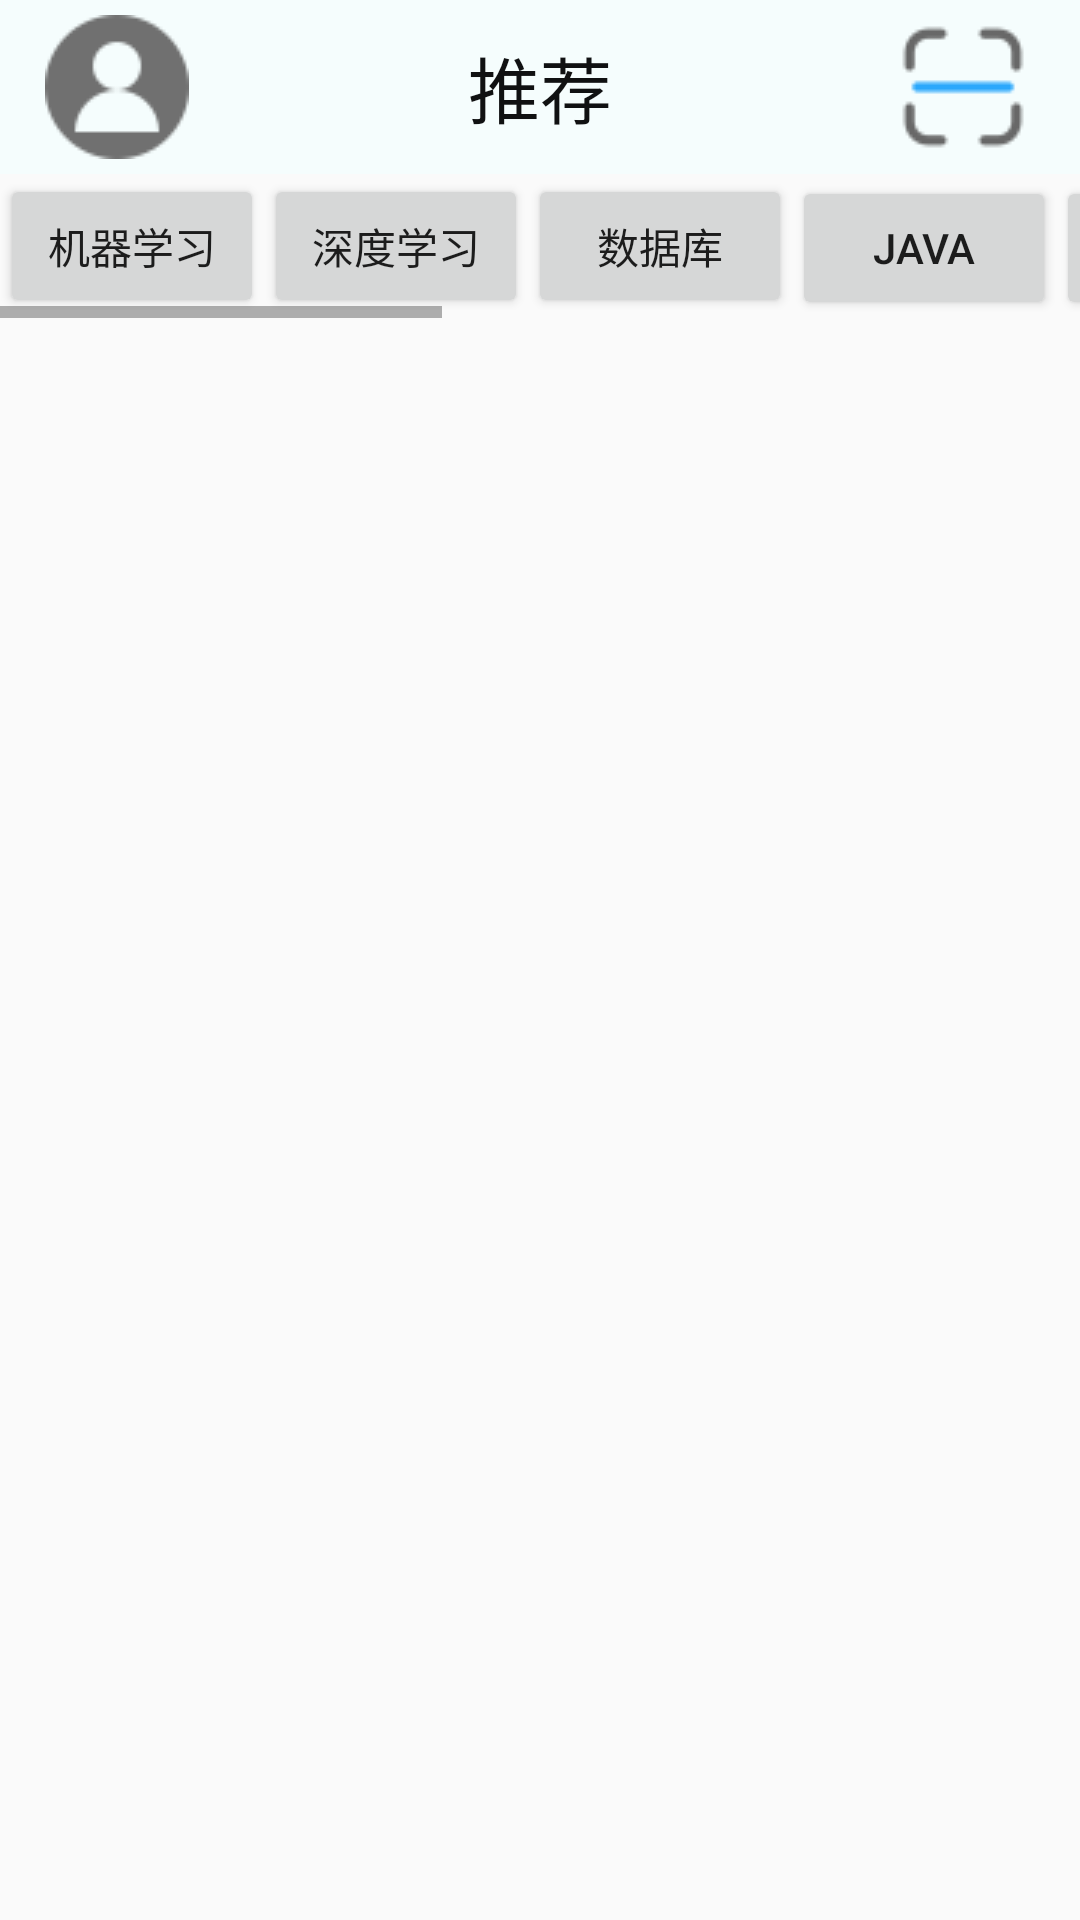

Named icons in this screenshot (1080×1920) and their centers, (x=x, y=y):
saoma: (x=963, y=87)
touxiang: (x=117, y=87)
